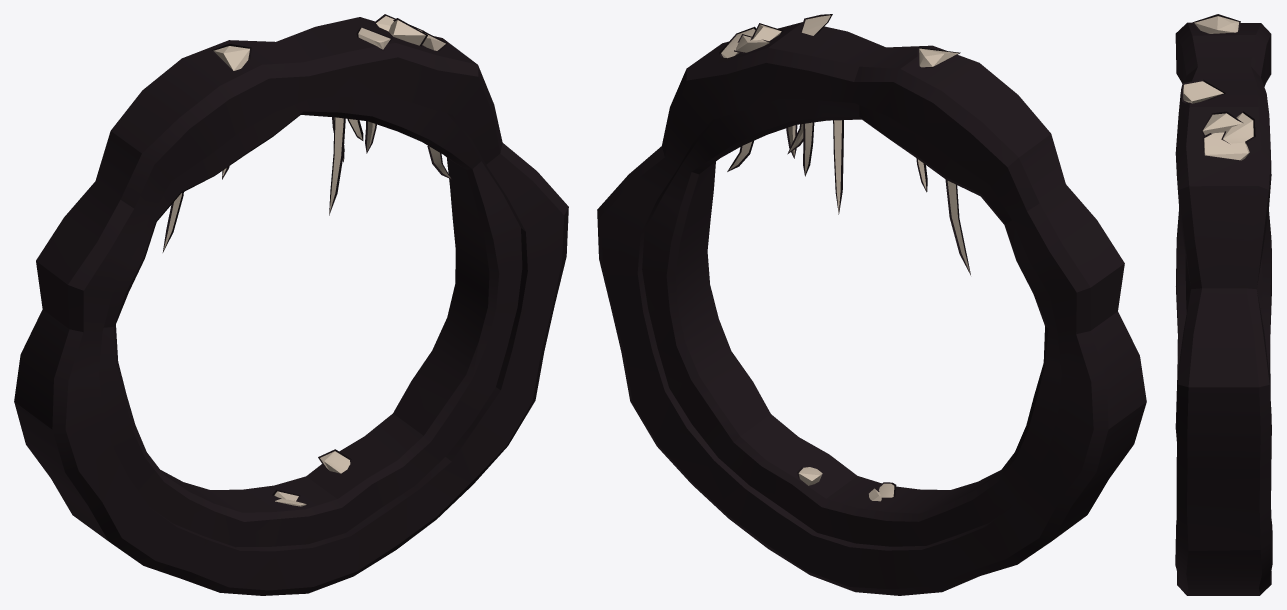
The model's file is SM_Ruin_Ring_01.fbx.
The picture shows the model from 3 angles, left to right: view 1: azimuth 30°, elevation 25°; view 2: azimuth 150°, elevation 25°; view 3: azimuth 270°, elevation 25°; orthographic projection. The views are drawn at different scales.
Parts seen in each view (by area): view 1: SM_Ruin_Ring_01; view 2: SM_Ruin_Ring_01; view 3: SM_Ruin_Ring_01.
Part boxes in pixels (<box>): SM_Ruin_Ring_01: <box>14,14,568,595</box>; SM_Ruin_Ring_01: <box>597,14,1146,595</box>; SM_Ruin_Ring_01: <box>1175,14,1272,595</box>.
Size of the model in its own units: 54.6 by 55.16 by 9.2.
